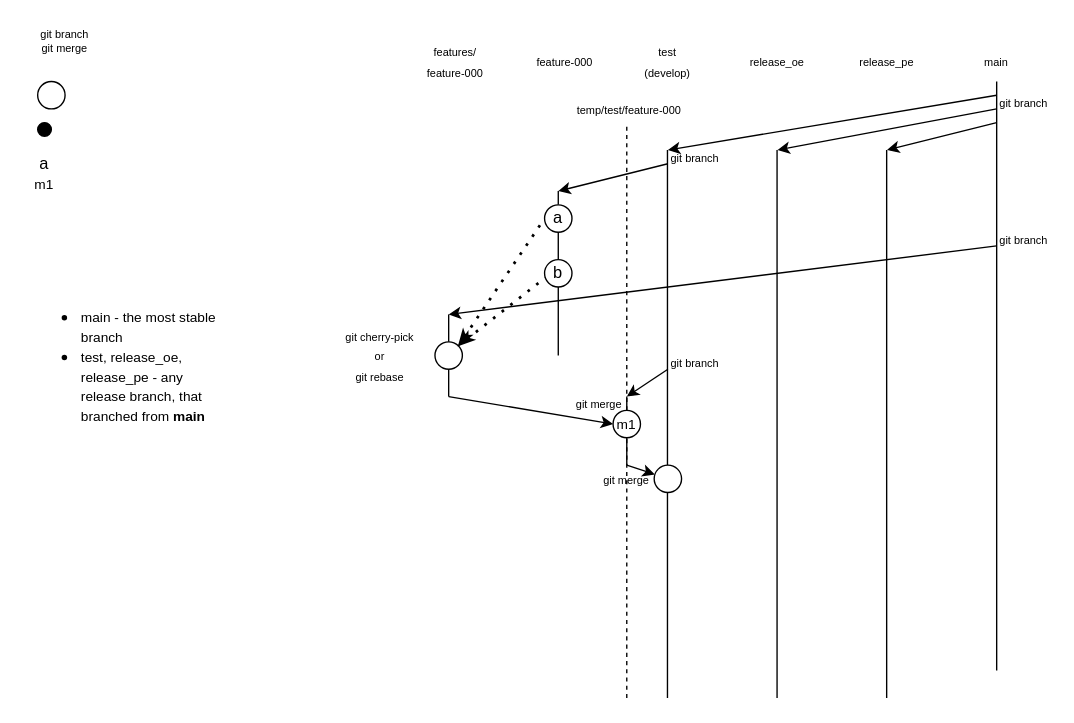
The diagram is 1074 pixels wide and 723 high, and some of its shapes have lost their labels. The centre of each missing label's shape, as x and y in pixels:
"a'" goes at [448,354].
"m2" goes at [667,478].
